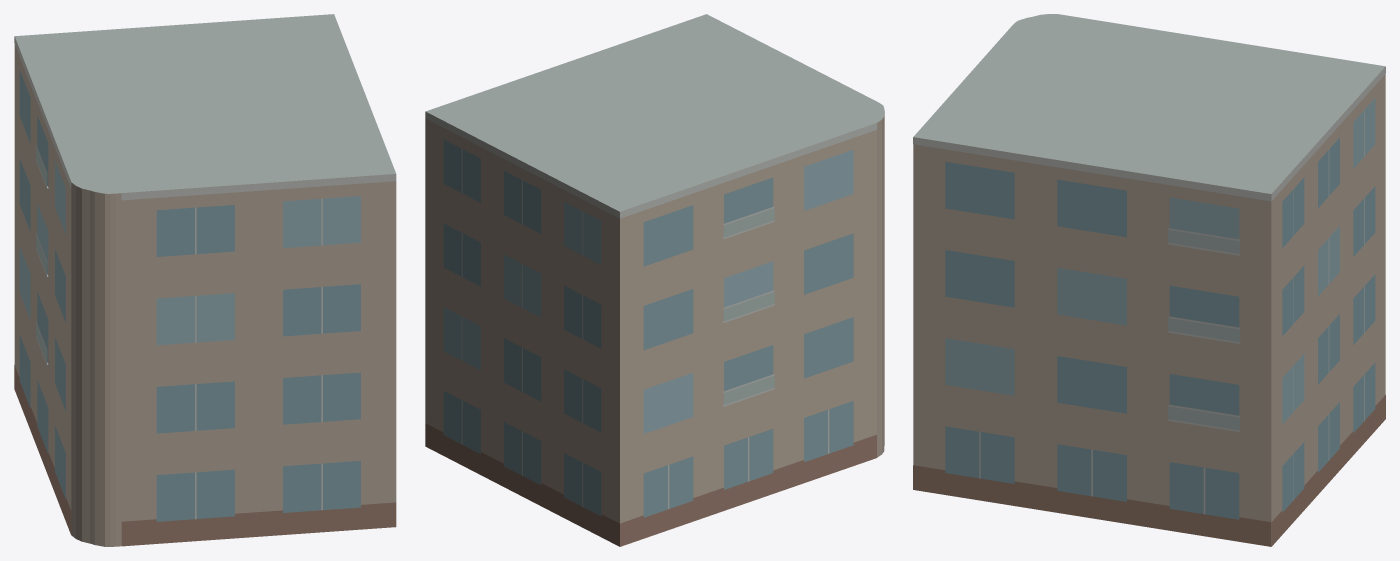
File: survey-upis-32701489.glb
3 views of the same model, side by side, from view 1: azimuth 30°, elevation 25°; view 2: azimuth 150°, elevation 25°; view 3: azimuth 270°, elevation 25° (orthographic). The views are drawn at different scales.
Parts seen in each view (by area): view 1: survey-upis-32701489.tmp; view 2: survey-upis-32701489.tmp; view 3: survey-upis-32701489.tmp.
Part boxes in pixels (left/top/right/bottom): survey-upis-32701489.tmp: left=14, top=14, right=396, bottom=546; survey-upis-32701489.tmp: left=425, top=14, right=884, bottom=546; survey-upis-32701489.tmp: left=913, top=14, right=1385, bottom=546.
Bounding box in the file's own units: 13.04 × 11.9 × 14.46.
